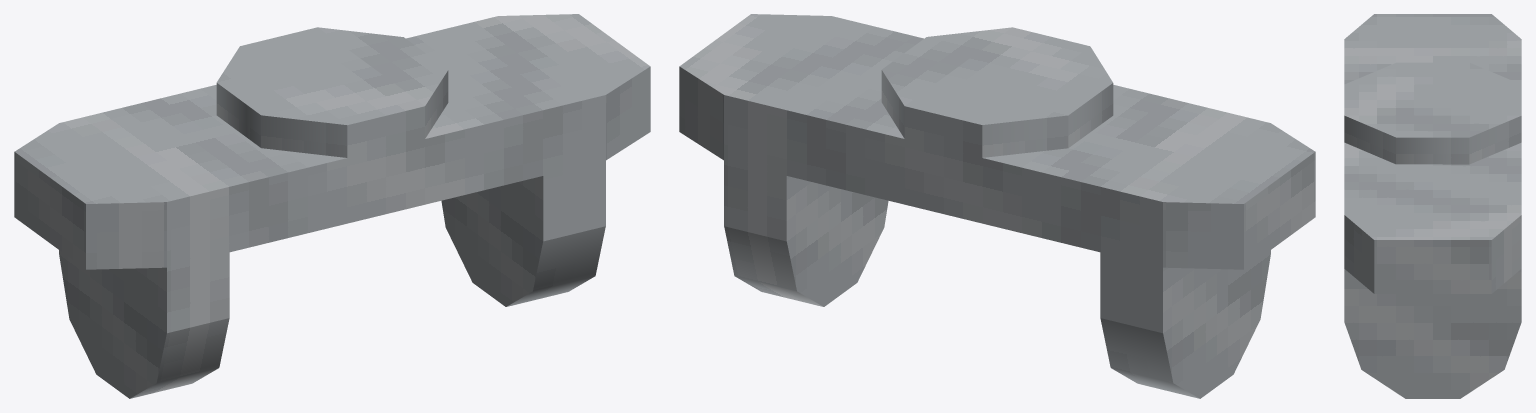
File: lower.obj
The picture shows the model from 3 angles, left to right: view 1: azimuth 30°, elevation 25°; view 2: azimuth 150°, elevation 25°; view 3: azimuth 270°, elevation 25°; orthographic projection. The views are drawn at different scales.
Visible parts, largest first — view 1: Mesh1 Model; view 2: Mesh1 Model; view 3: Mesh1 Model.
Boxes of the visible parts, x1,y1,x2,y2 form: Mesh1 Model: (14,14,650,398); Mesh1 Model: (679,14,1315,398); Mesh1 Model: (1344,14,1521,398).
Size of the model in its own units: 0.18 by 0.0783 by 0.0596.
Materials: 1 (1 with a texture image).
